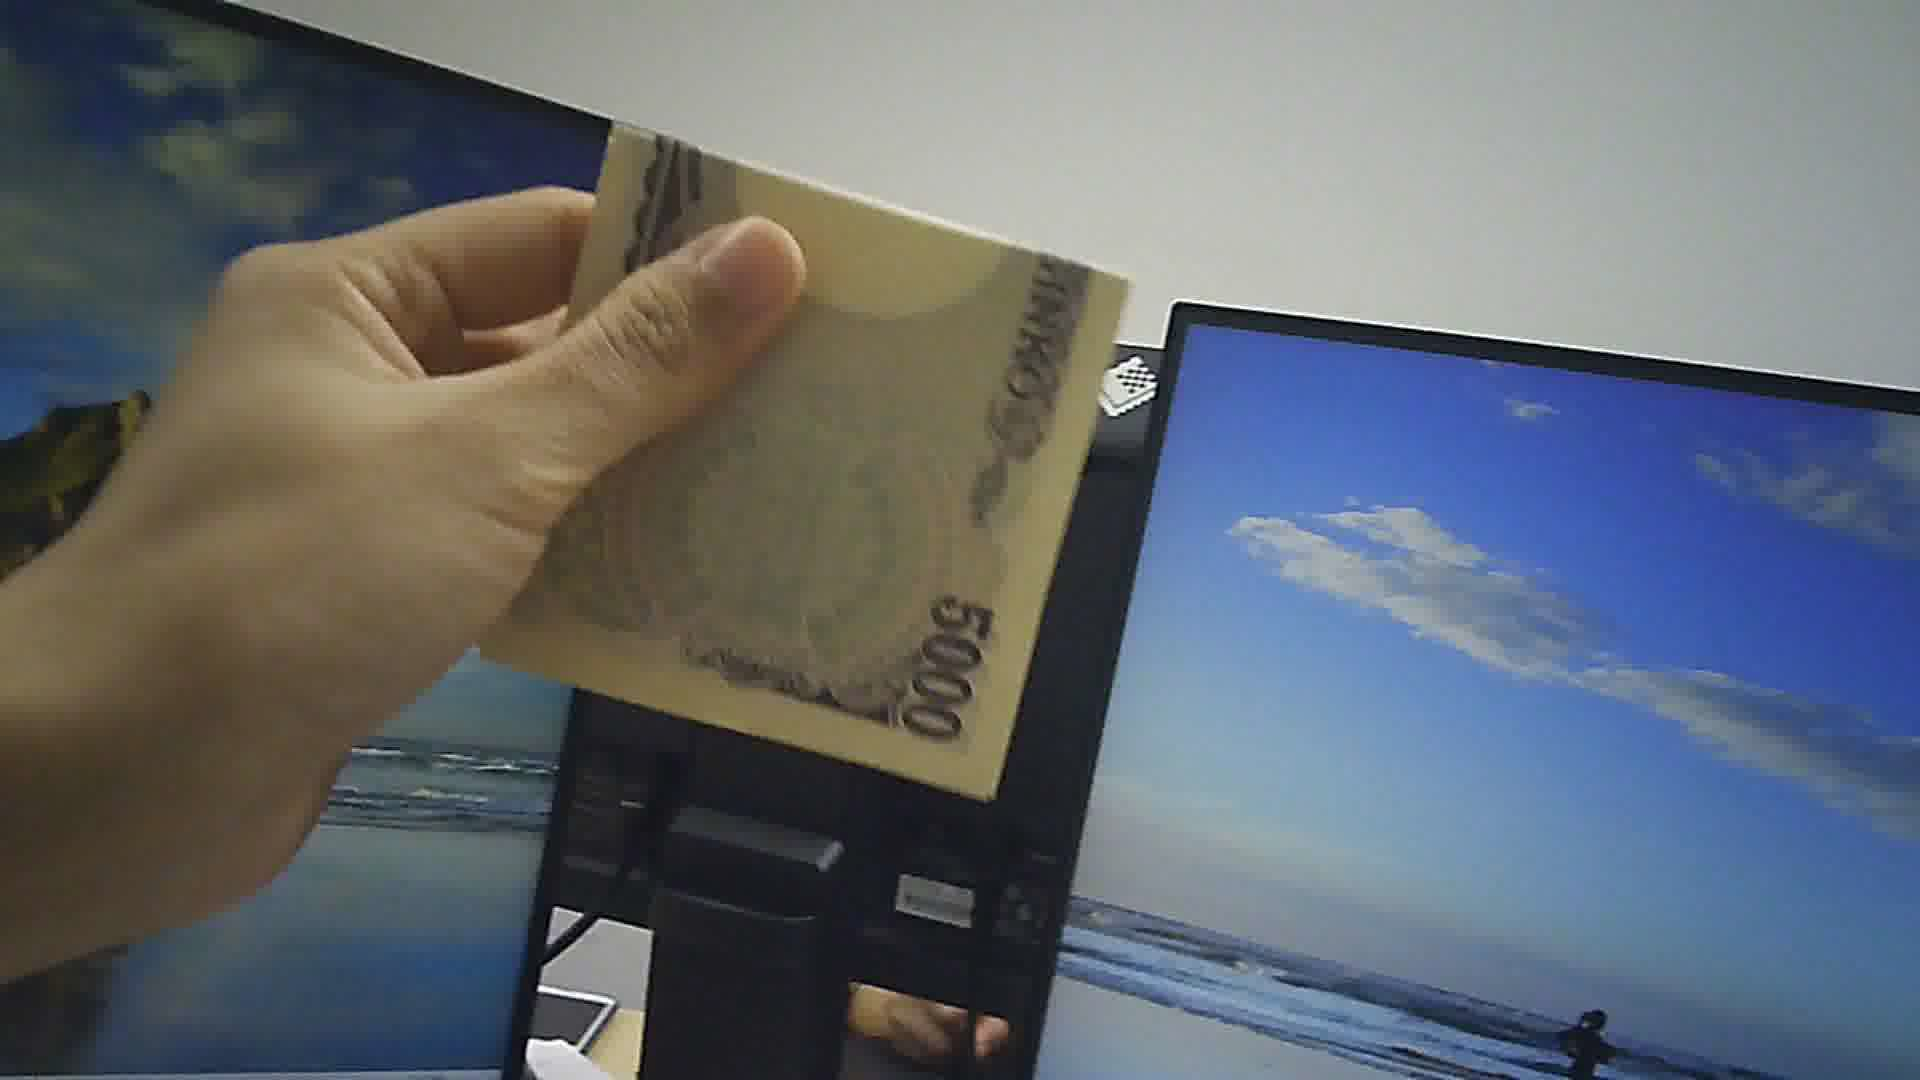5,000 Yen: (493, 96, 1150, 814)
